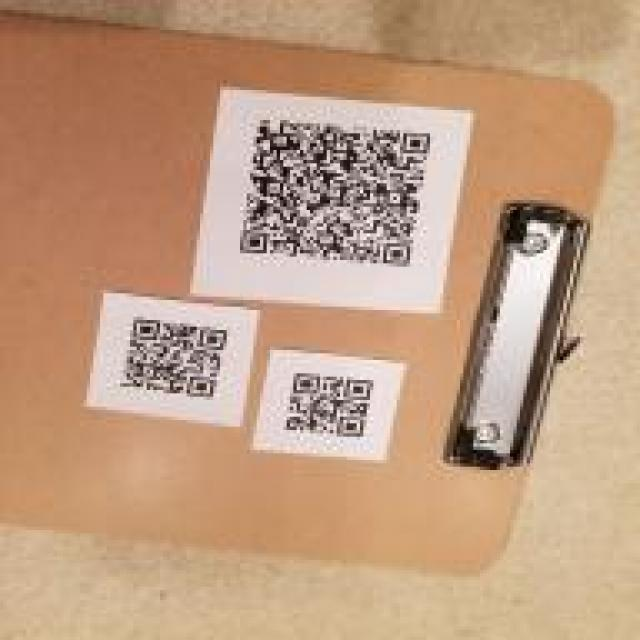QR_CODE: (224, 103, 444, 280), (109, 310, 244, 410), (273, 360, 387, 447)
